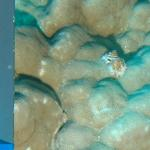alive: (24, 6, 144, 145)
